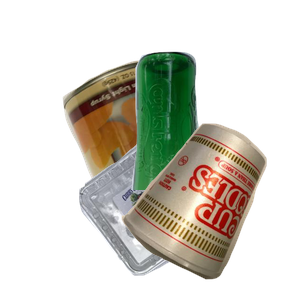glass: (129, 49, 300, 229)
metal: (60, 58, 300, 238)
plastic: (77, 133, 289, 300)
trash: (119, 121, 300, 300)
